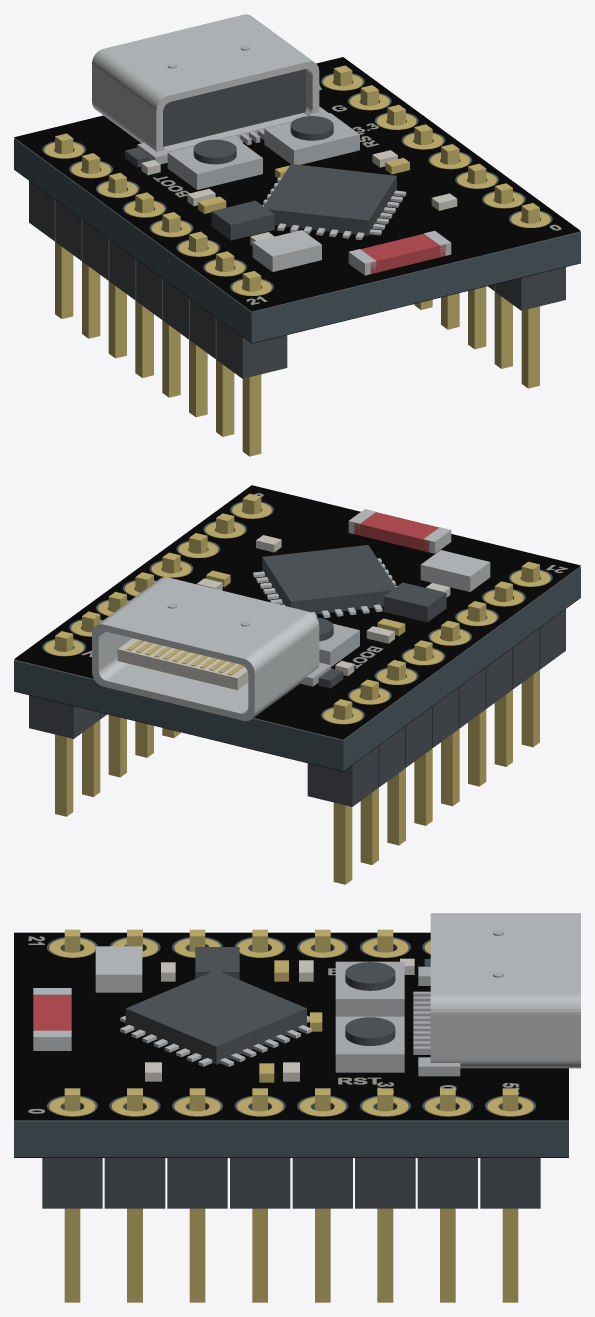
The picture shows the model from 3 angles, top to bottom: view 1: azimuth 30°, elevation 25°; view 2: azimuth 150°, elevation 25°; view 3: azimuth 270°, elevation 25°; orthographic projection. The views are drawn at different scales.
Parts seen in each view (by area): view 1: front_silkscreen, PCB, usb_metal_shell, ESP32-C3, usb_inner_rear, header_base_-7.62_0, button_body-2.65, button_body2.65, crystal, header_base_7.62_0, header_pin_-7.62_0, antenna_body (+22 smaller); view 2: front_silkscreen, usb_metal_shell, PCB, ESP32-C3, header_base_-7.62_7, usb_tongue, crystal, header_base_7.62_7, header_pin_-7.62_7, antenna_body, header_pin_7.62_7, voltage_regulator (+19 smaller); view 3: front_silkscreen, PCB, usb_metal_shell, ESP32-C3, header_base_7.62_1, header_base_7.62_0, header_base_7.62_2, header_base_7.62_3, header_base_7.62_4, header_base_7.62_5, header_base_7.62_6, header_base_7.62_7 (+30 smaller).
Part boxes in pixels (x1,y1,x2,y2): front_silkscreen: [14, 57, 580, 311]; PCB: [14, 73, 580, 342]; usb_metal_shell: [92, 14, 319, 151]; ESP32-C3: [263, 164, 396, 235]; usb_inner_rear: [163, 69, 305, 146]; header_base_-7.62_0: [216, 318, 287, 378]; button_body-2.65: [167, 136, 262, 189]; button_body2.65: [264, 113, 359, 164]; crystal: [252, 230, 321, 271]; header_base_7.62_0: [495, 267, 565, 310]; header_pin_-7.62_0: [242, 271, 261, 456]; antenna_body: [360, 234, 445, 273]; front_silkscreen: [14, 485, 580, 739]; usb_metal_shell: [92, 577, 319, 720]; PCB: [14, 501, 580, 771]; ESP32-C3: [262, 545, 396, 614]; header_base_-7.62_7: [307, 746, 378, 806]; usb_tongue: [117, 638, 248, 690]; crystal: [420, 550, 490, 591]; header_base_7.62_7: [29, 695, 99, 738]; header_pin_-7.62_7: [333, 699, 352, 884]; antenna_body: [354, 512, 439, 552]; header_pin_7.62_7: [55, 631, 73, 816]; voltage_regulator: [383, 582, 446, 622]; front_silkscreen: [14, 932, 568, 1120]; PCB: [14, 937, 568, 1157]; usb_metal_shell: [430, 913, 580, 1068]; ESP32-C3: [125, 972, 306, 1064]; header_base_7.62_1: [104, 1158, 165, 1208]; header_base_7.62_0: [42, 1158, 102, 1208]; header_base_7.62_2: [167, 1158, 227, 1208]; header_base_7.62_3: [230, 1158, 290, 1208]; header_base_7.62_4: [292, 1158, 352, 1208]; header_base_7.62_5: [355, 1158, 415, 1208]; header_base_7.62_6: [417, 1158, 477, 1208]; header_base_7.62_7: [480, 1158, 540, 1208].
Size of the model in its own units: 0.018 by 0.012 by 0.023.
Materials: 2 (2 with a texture image).
